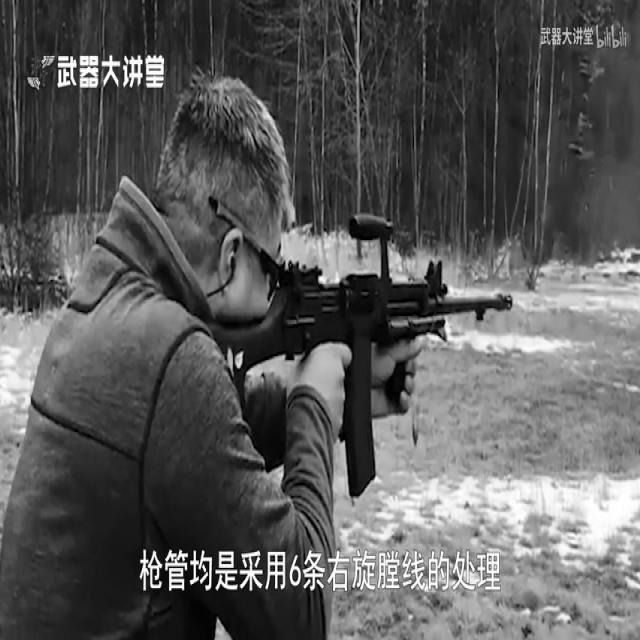Sniper: (121, 169, 524, 549)
